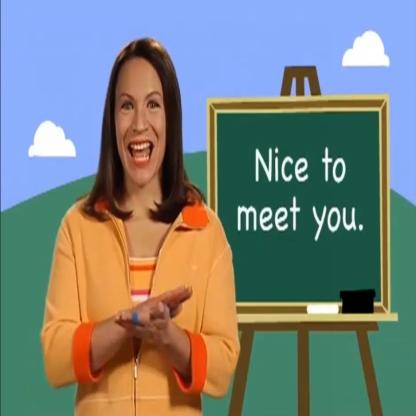NiceToMeetYou: (114, 270, 194, 370)
